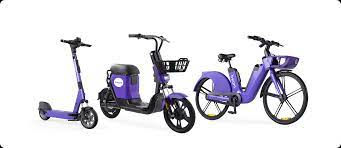kick_board: (39, 38, 97, 128)
kick_body: (53, 110, 75, 119)
kick_handler: (61, 37, 91, 50)
kick_neck: (71, 53, 87, 101)
kick_wheel: (79, 108, 98, 130), (38, 102, 52, 120)
